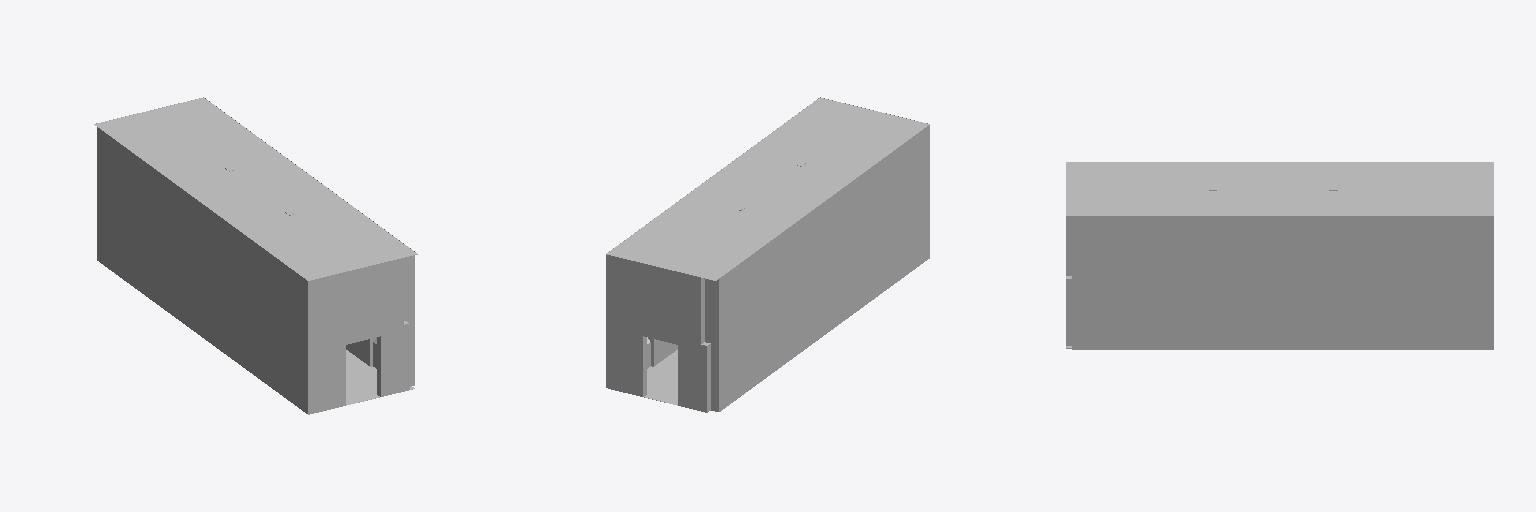
The model's file is LC_room2.obj.
3 renders of one model, left to right at view 1: azimuth 30°, elevation 25°; view 2: azimuth 150°, elevation 25°; view 3: azimuth 270°, elevation 25°, orthographic.
Visible parts, largest first — view 1: LC_room2; view 2: LC_room2; view 3: LC_room2.
Part boxes in pixels (bbox=[...]): LC_room2: bbox=[94, 97, 417, 414]; LC_room2: bbox=[606, 97, 929, 412]; LC_room2: bbox=[1066, 162, 1493, 349].
Size of the model in its own units: 5.94 by 6.91 by 20.